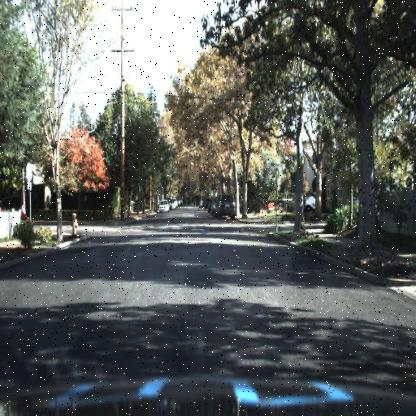car: (214, 192, 238, 222), (158, 196, 170, 214)
